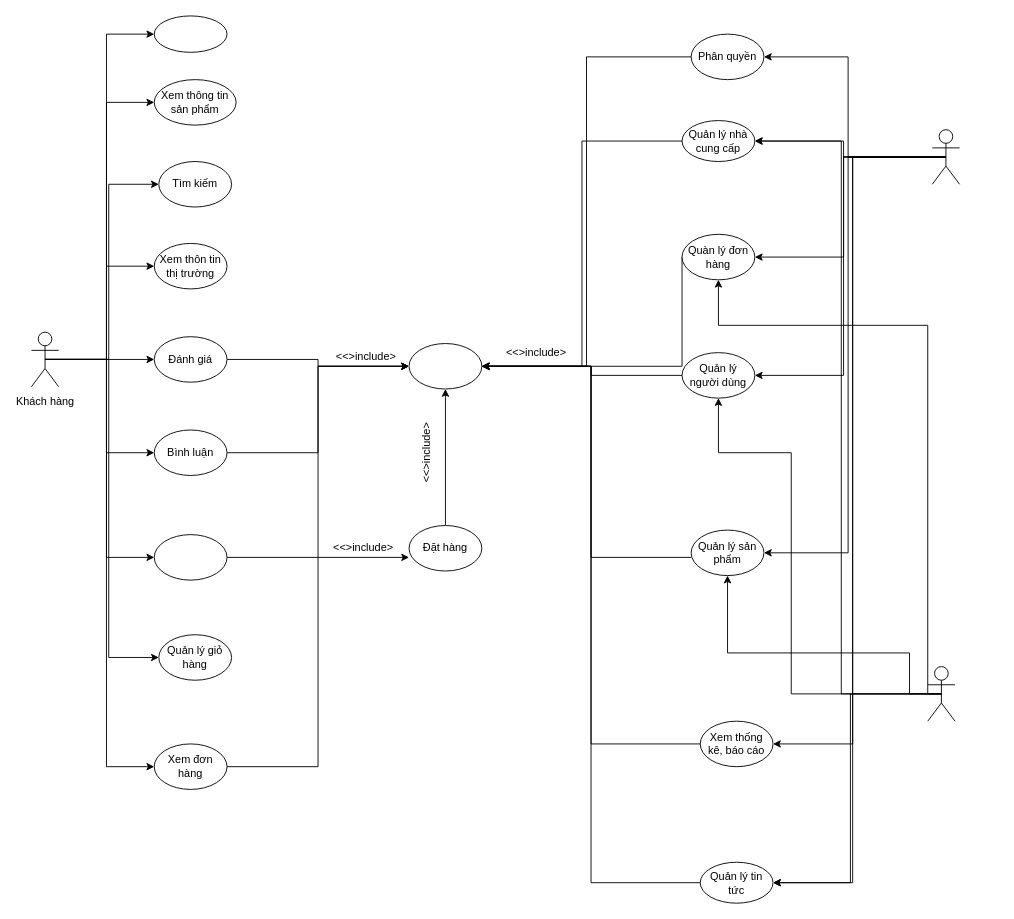
The diagram is 1014 pixels wide and 919 high, and some of its shapes have lost their labels. Each missing label, with the box of its shape:
Chọn mua: (153, 534, 227, 580)
Quản trị viên: (927, 666, 955, 721)
Quản trị viên Cao cấp: (931, 129, 960, 184)
Đăng ký: (153, 15, 227, 52)
Đăng nhập: (408, 343, 482, 389)
